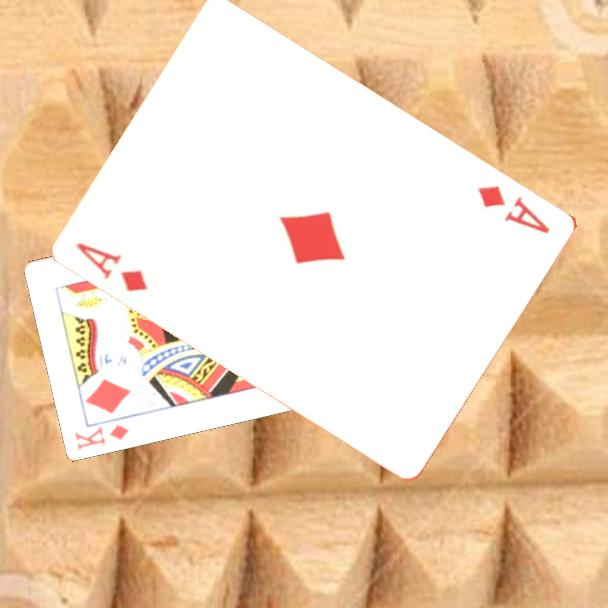d01: (474, 181, 553, 237), (73, 239, 152, 295)
d13: (71, 421, 132, 453)
